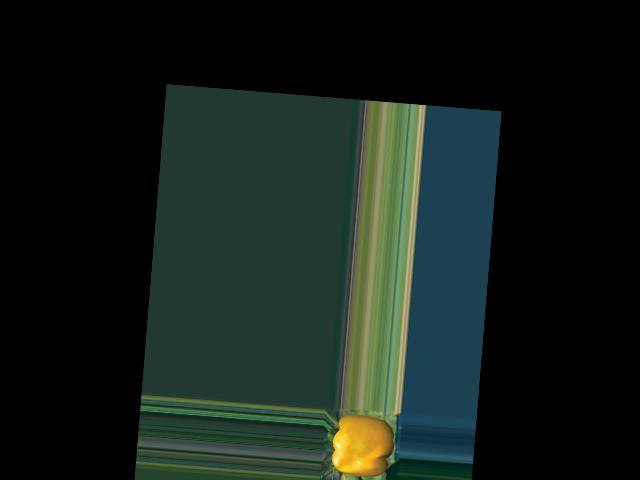bell_pepper: (324, 409, 397, 480)
